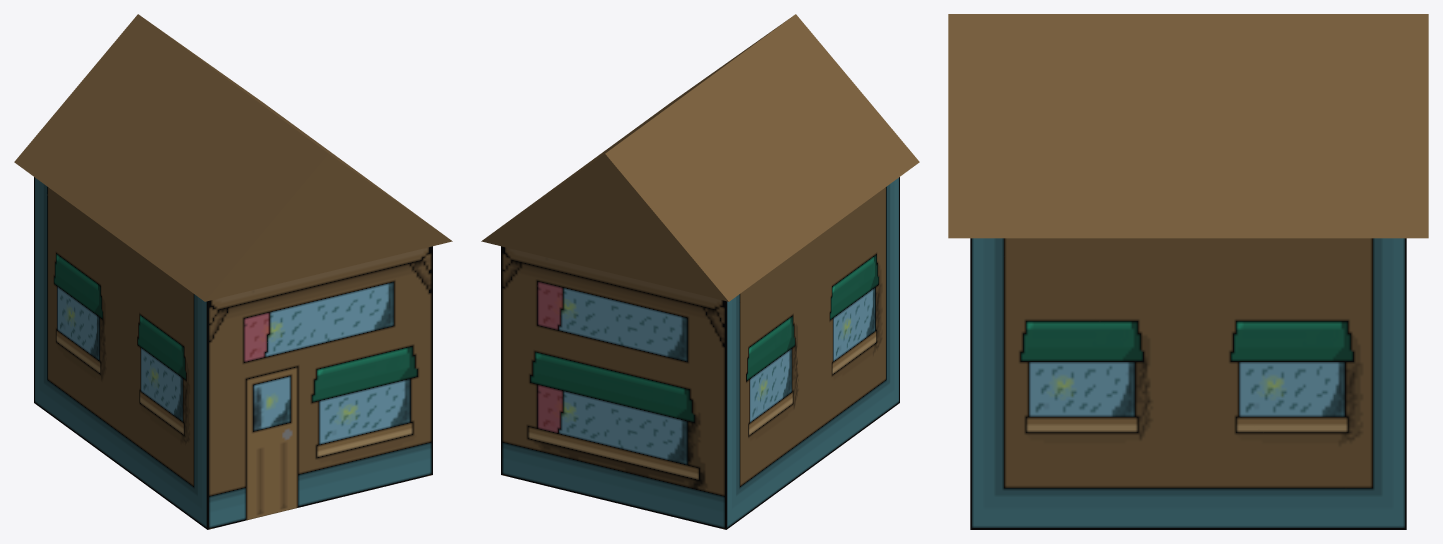
The model's file is WoonPlaatsHouse1.fbx.
3 renders of one model, left to right at view 1: azimuth 30°, elevation 25°; view 2: azimuth 150°, elevation 25°; view 3: azimuth 270°, elevation 25°, orthographic. The views are drawn at different scales.
Visible parts, largest first — view 1: Cube_5, Cube; view 2: Cube_5, Cube; view 3: Cube_5, Cube.
Part boxes in pixels (x1=…): Cube_5: x1=34, y1=177, x2=432, y2=529; Cube: x1=14, y1=14, x2=452, y2=301; Cube_5: x1=501, y1=177, x2=899, y2=529; Cube: x1=481, y1=14, x2=919, y2=301; Cube_5: x1=970, y1=238, x2=1406, y2=529; Cube: x1=948, y1=14, x2=1428, y2=238.
Bounding box in the file's own units: 990 × 1355 × 1320.
4 materials, 4 textured.
